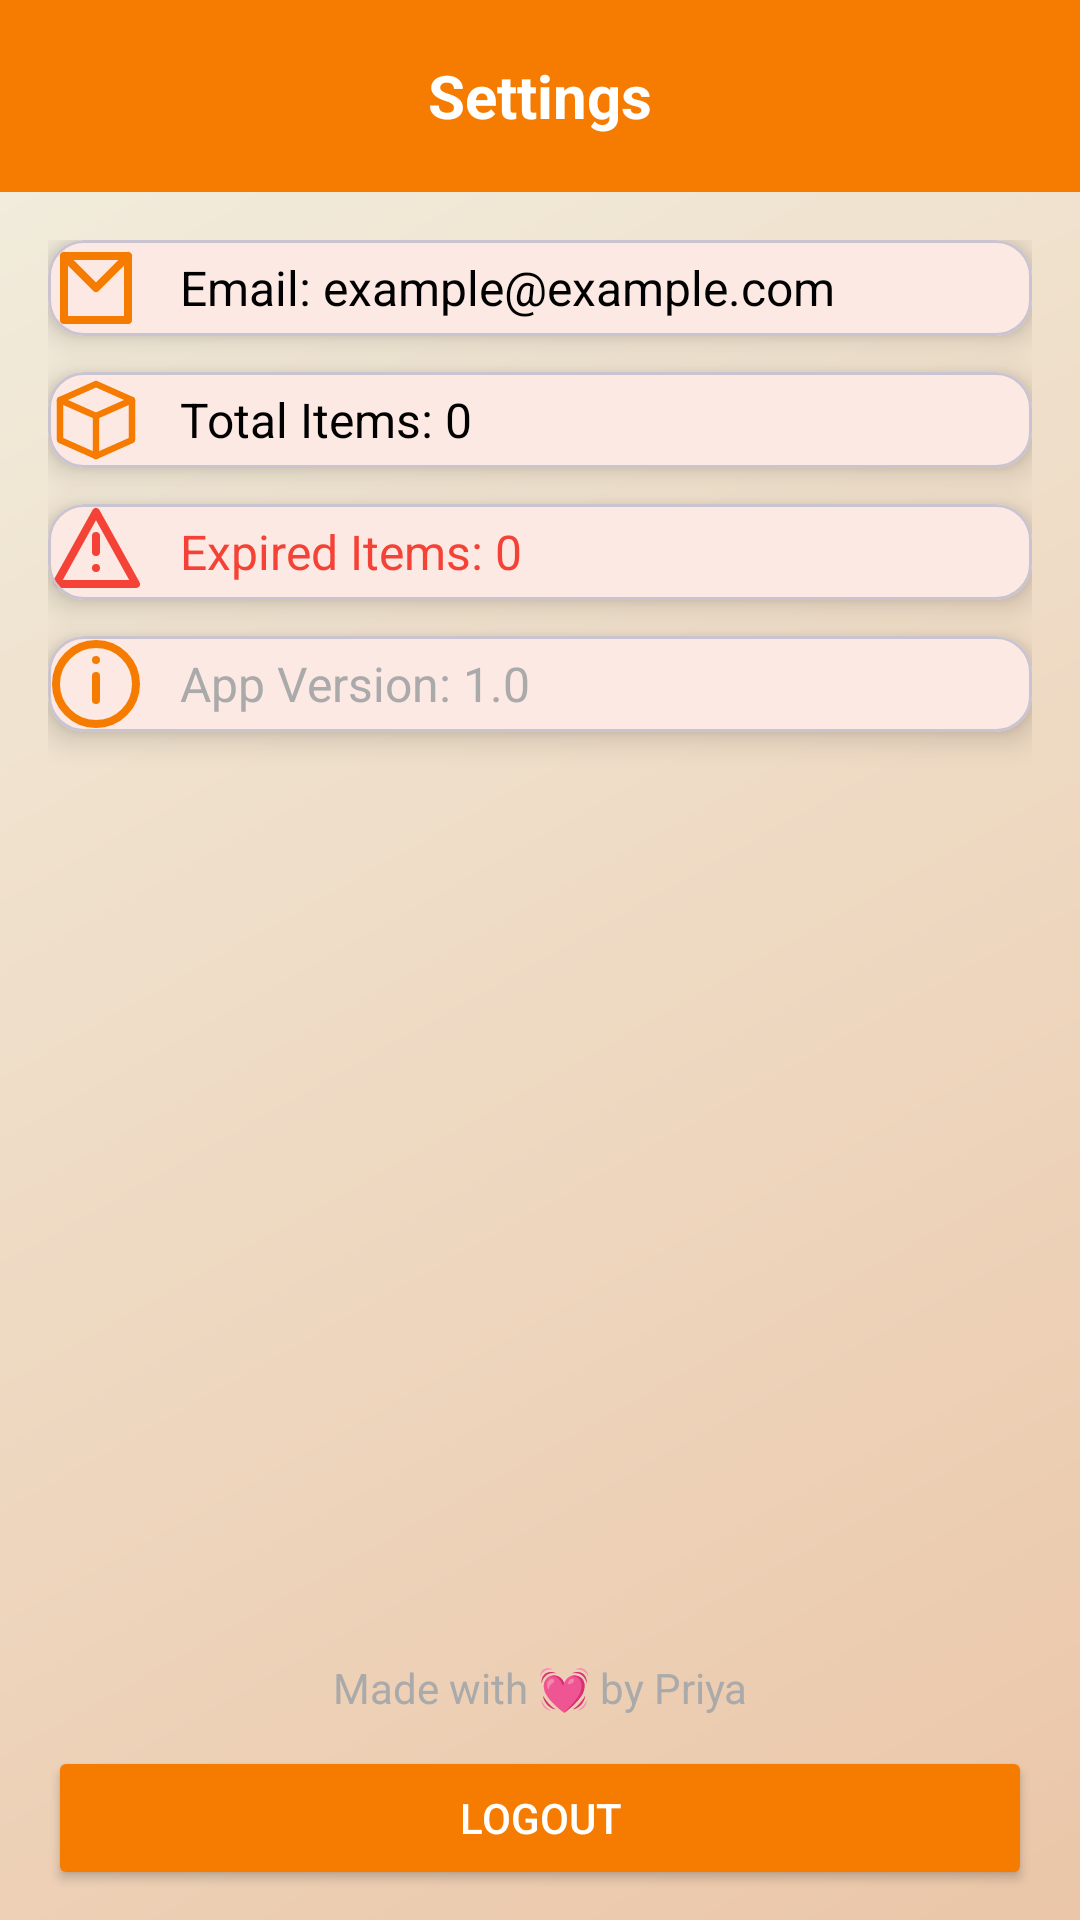

Point at icon controls on the screen. Image size 1080px x 1920px, points as (x,y).
info: (96,684)
inventory box: (96,420)
warning: (96,552)
